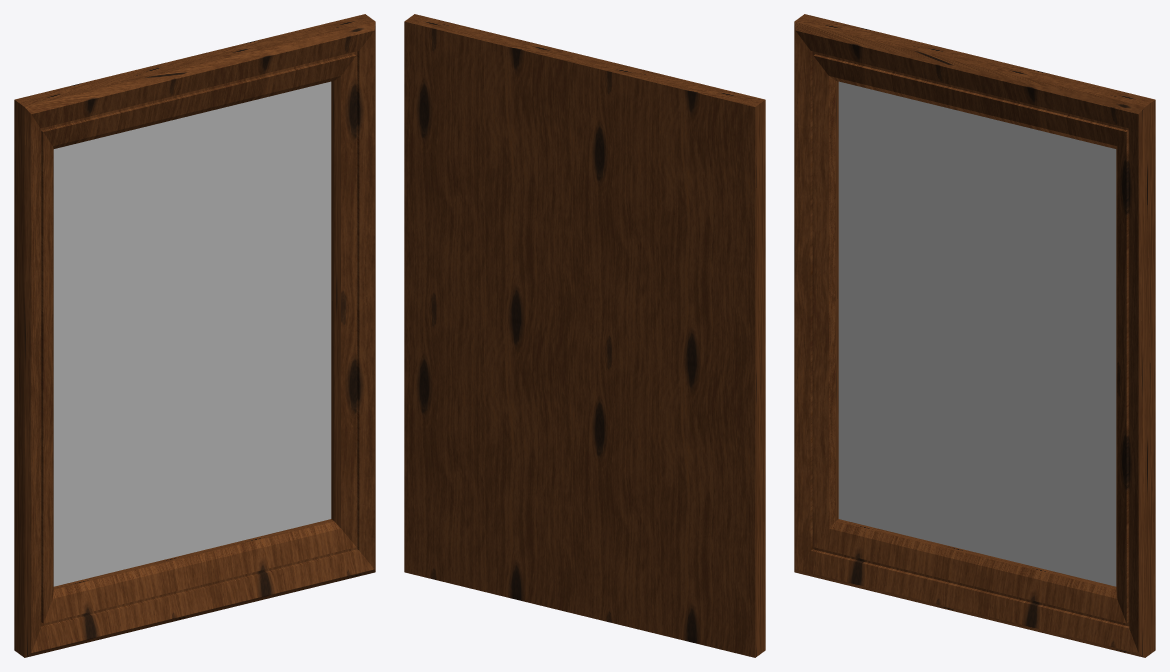
The model's file is Mirror.obj.
The picture shows the model from 3 angles, left to right: view 1: azimuth 30°, elevation 25°; view 2: azimuth 150°, elevation 25°; view 3: azimuth 330°, elevation 25°; orthographic projection.
Parts seen in each view (by area): view 1: Cube; view 2: Cube; view 3: Cube.
Part boxes in pixels (box(x1,y1,x2,y2)): Cube: box(14, 14, 375, 657); Cube: box(404, 14, 765, 657); Cube: box(794, 14, 1155, 657).
Bounding box in the file's own units: 0.4 × 0.6 × 0.026.
